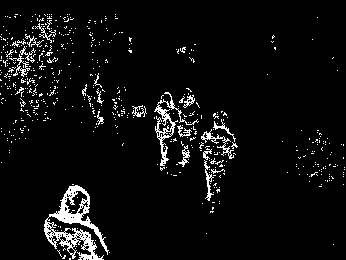person: (44, 182, 108, 260), (201, 108, 237, 213), (152, 89, 177, 172), (176, 86, 199, 165), (81, 74, 108, 126)
